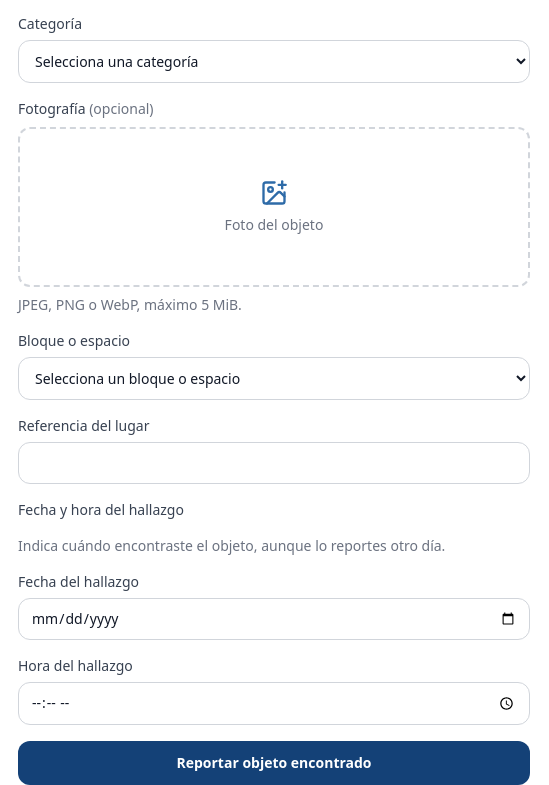
Scenario: Validación del formulario de hallazgo › impide enviar el formulario vacío y muestra errores accesibles junto a cada campo obligatorio
The image size is (549, 785).
(page scrolled)
Step 1. Click the button "Reportar objeto encontrado" → (274, 763), box [18, 741, 530, 784]
(page scrolled)
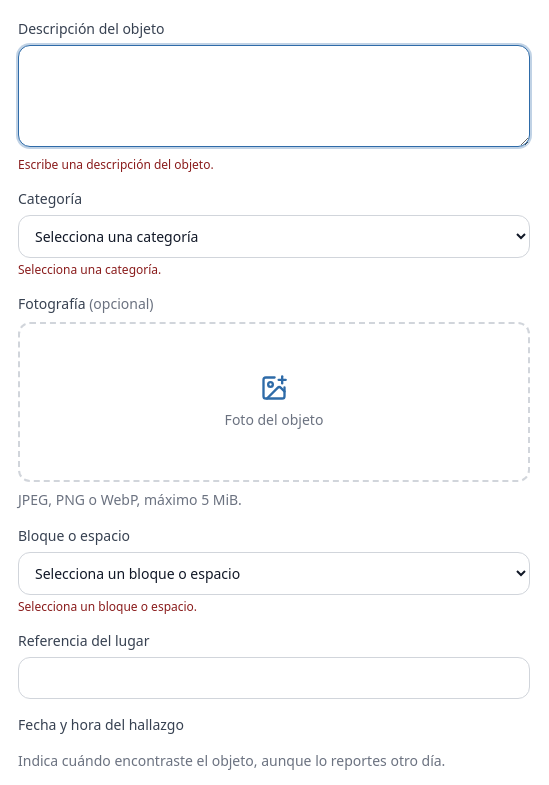
Now the number of messages is 4
Now the message "Escribe una descripción del objeto." is shown, box [18, 156, 214, 173]
Now the message "Selecciona una categoría." is shown, box [18, 261, 161, 278]
